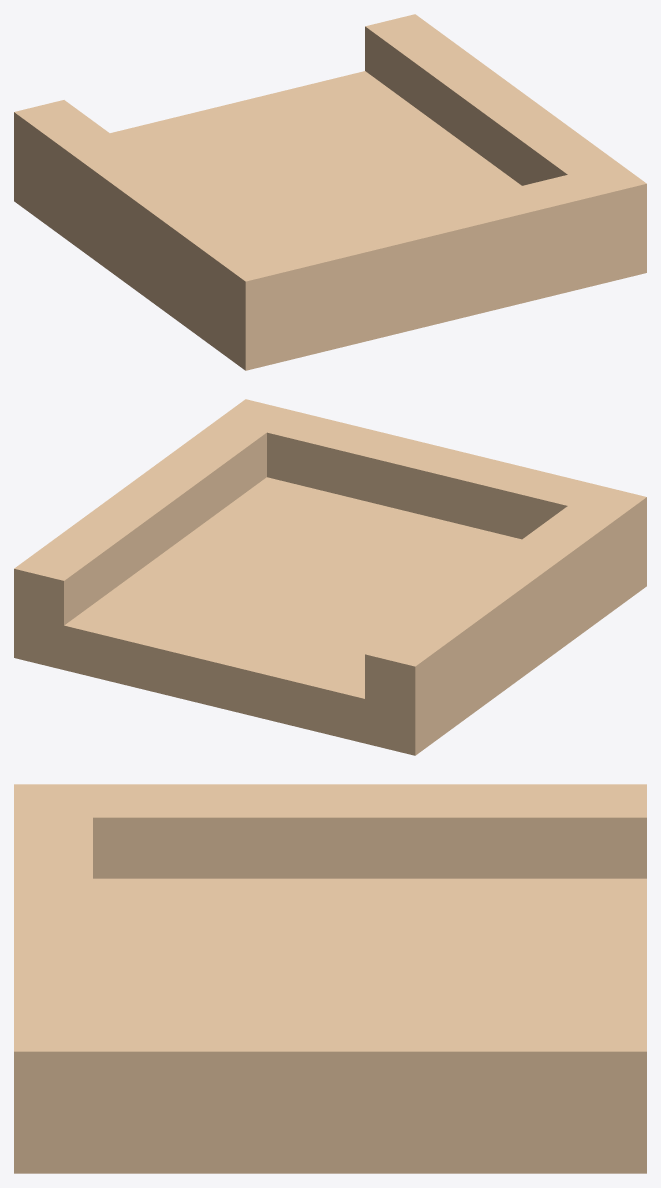
File: roof-flat-border-end.obj
3 renders of one model, top to bottom at view 1: azimuth 30°, elevation 25°; view 2: azimuth 150°, elevation 25°; view 3: azimuth 270°, elevation 25°, orthographic. The views are drawn at different scales.
Size of the model in its own units: 1 by 0.2125 by 1.
